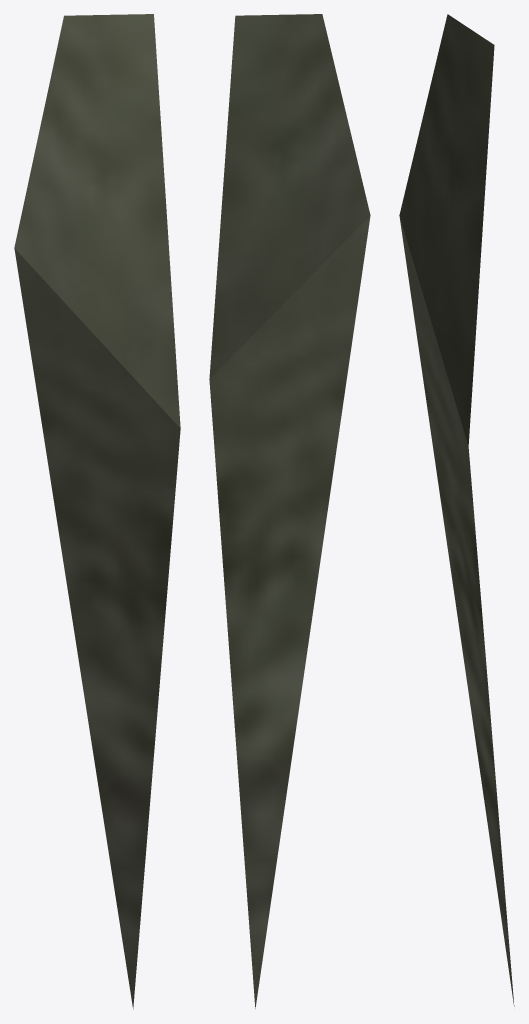
The picture shows the model from 3 angles, left to right: view 1: azimuth 30°, elevation 25°; view 2: azimuth 210°, elevation 25°; view 3: azimuth 330°, elevation 25°; orthographic projection. The views are drawn at different scales.
Size of the model in its own units: 0.2221 by 1.81 by 0.1534.
1 material, 1 textured.
